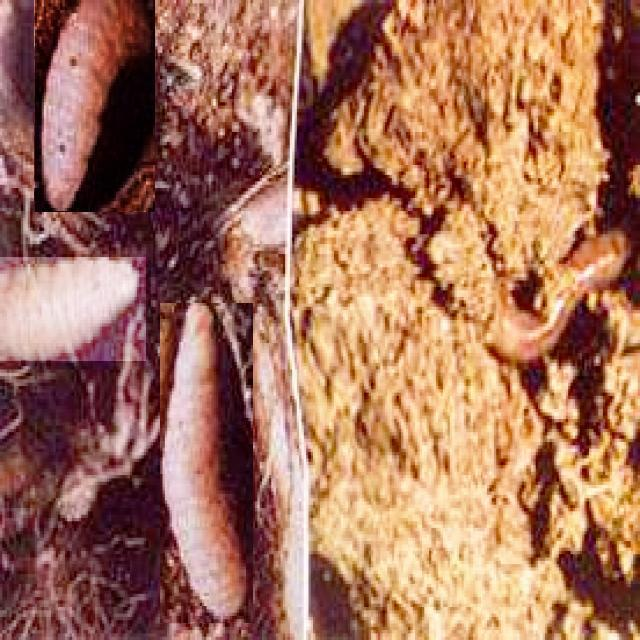whorl-maggot: (160, 303, 253, 623), (35, 0, 155, 212), (0, 258, 146, 361)
